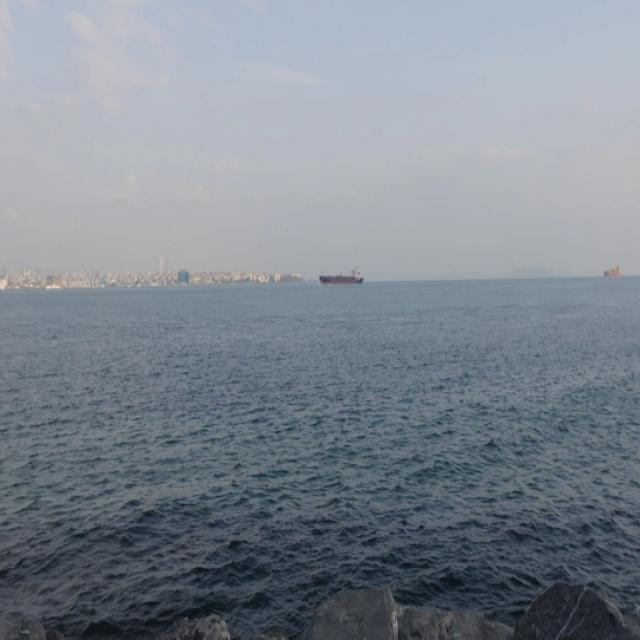cargoship: (318, 264, 365, 284), (604, 263, 624, 278)
